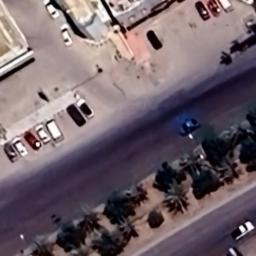SUV: (45, 117, 66, 144)
sedan: (227, 220, 256, 241), (42, 0, 62, 20), (58, 24, 75, 44)
unknown: (61, 102, 89, 127), (73, 97, 101, 121), (144, 26, 166, 56), (9, 135, 31, 155), (192, 0, 212, 22), (23, 130, 42, 150), (2, 142, 18, 165), (34, 124, 50, 146), (224, 243, 249, 256), (218, 0, 238, 12), (208, 0, 220, 19)
